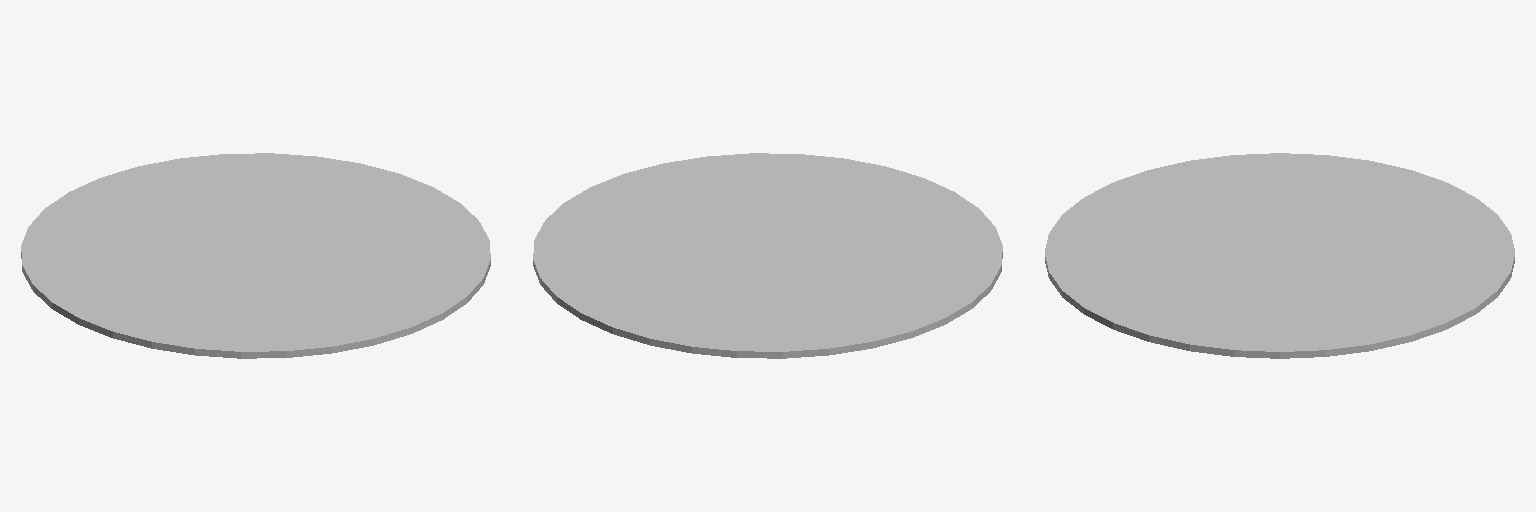
File: baseGiro.obj
The picture shows the model from 3 angles: view 1: azimuth 30°, elevation 25°; view 2: azimuth 150°, elevation 25°; view 3: azimuth 270°, elevation 25°; orthographic projection.
Visible parts, largest first — view 1: Cylinder; view 2: Cylinder; view 3: Cylinder.
Part boxes in pixels (left/top/right/bottom): Cylinder: left=21, top=153, right=490, bottom=358; Cylinder: left=533, top=153, right=1002, bottom=358; Cylinder: left=1045, top=153, right=1514, bottom=358.
Bounding box in the file's own units: 2 × 0.032 × 2.